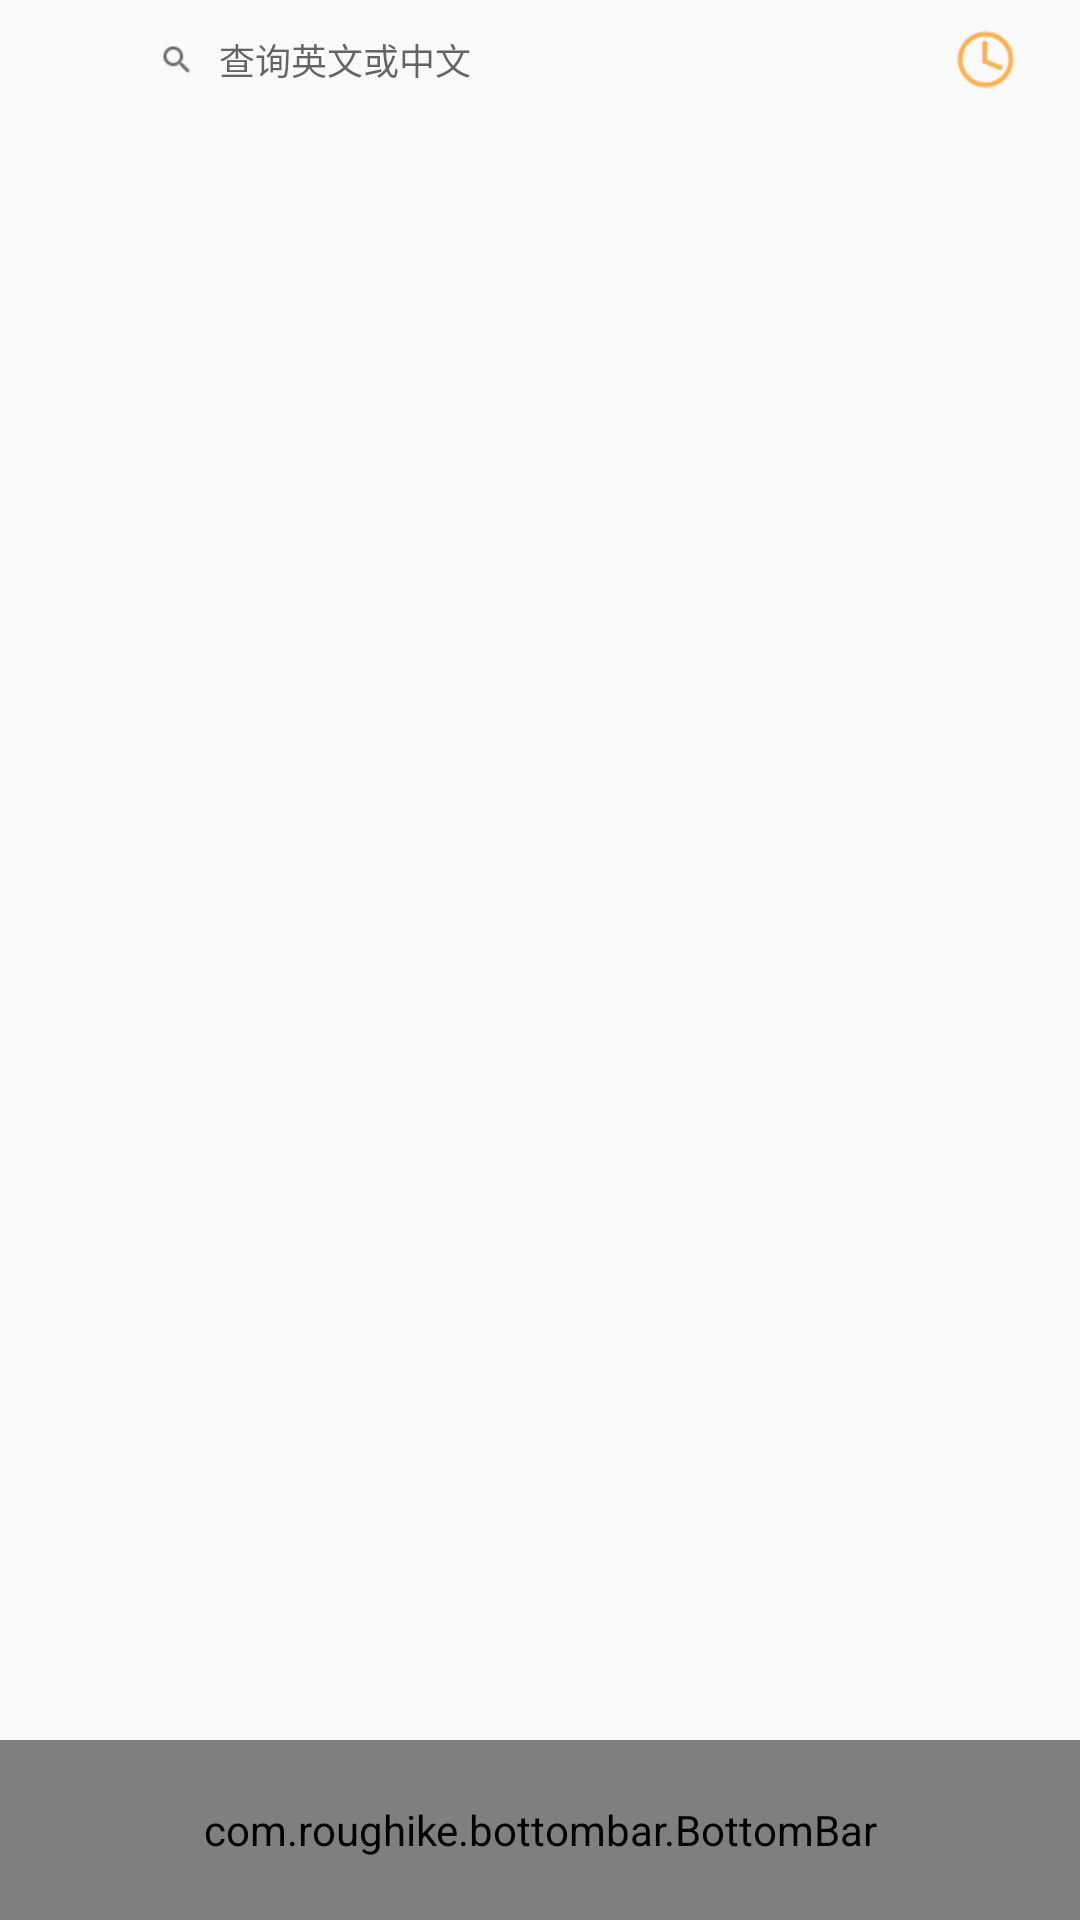

Where to tap for icons on this 1080x1920 app screen, as point (x, y):
mall images clock: point (985, 59)
